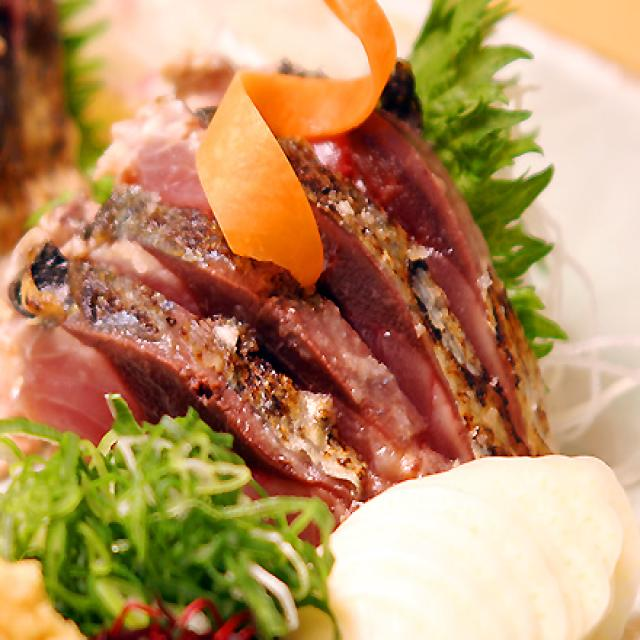熟制海鲜: (0, 29, 630, 586)
